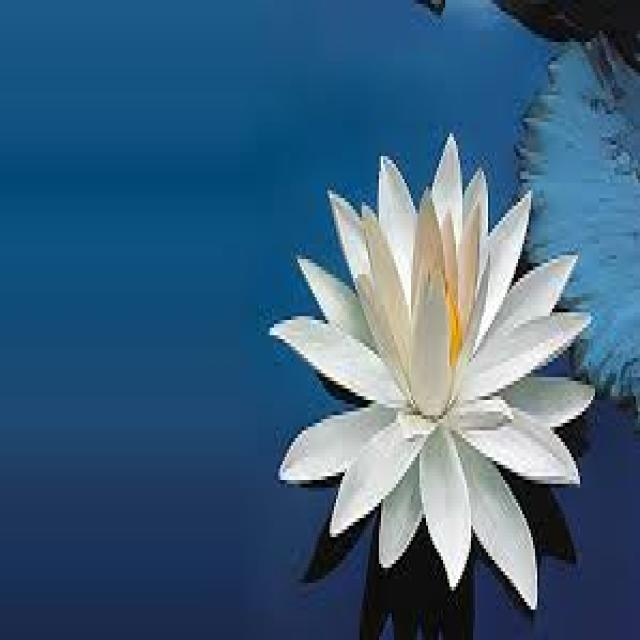lily: (251, 131, 628, 618)
